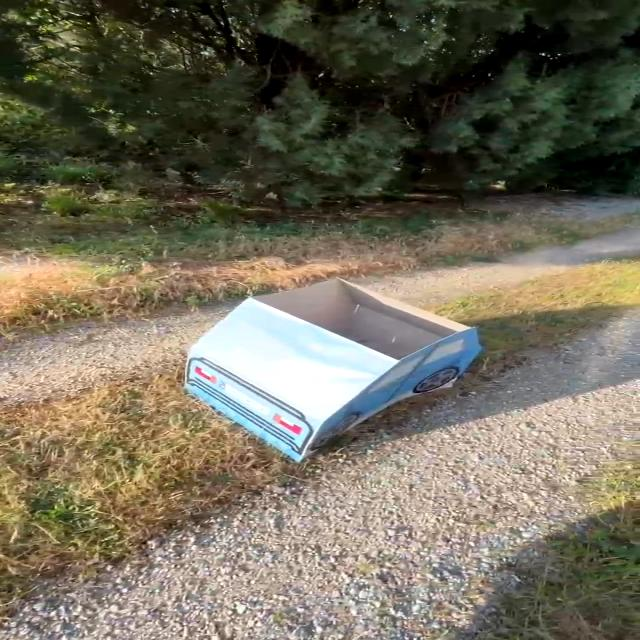blue_car: (174, 266, 525, 487)
